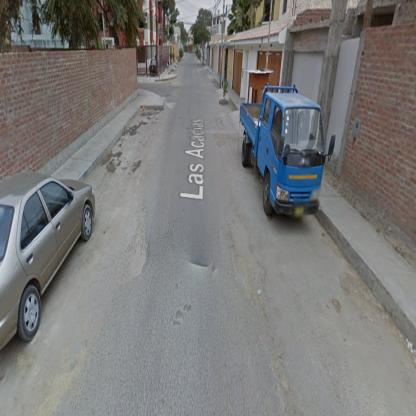Obstaculo: (229, 221, 272, 335), (116, 225, 150, 285)
Vehiculo: (1, 172, 97, 353), (240, 85, 337, 218)
